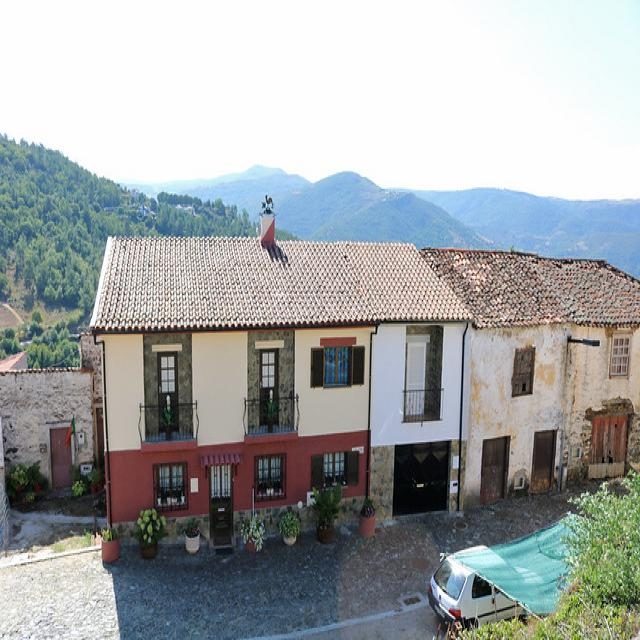Normal_building: (82, 228, 473, 556)
